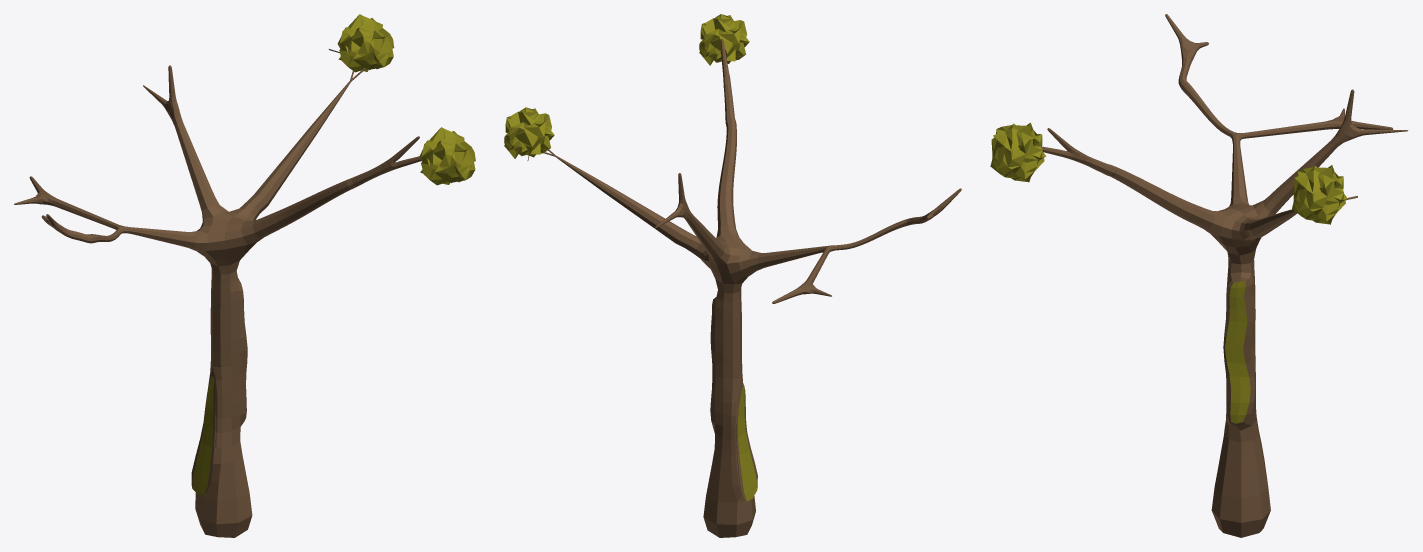
File: suxoederevo2.fbx
The picture shows the model from 3 angles, left to right: view 1: azimuth 30°, elevation 25°; view 2: azimuth 150°, elevation 25°; view 3: azimuth 270°, elevation 25°; orthographic projection. The views are drawn at different scales.
Parts seen in each view (by area): view 1: suxoe derevo; view 2: suxoe derevo; view 3: suxoe derevo.
Boxes of the visible parts, x1,y1,x2,y2 form: suxoe derevo: (14,14,475,537); suxoe derevo: (504,14,961,537); suxoe derevo: (990,14,1408,537).
Bounding box in the file's own units: 309 × 321 × 259.
